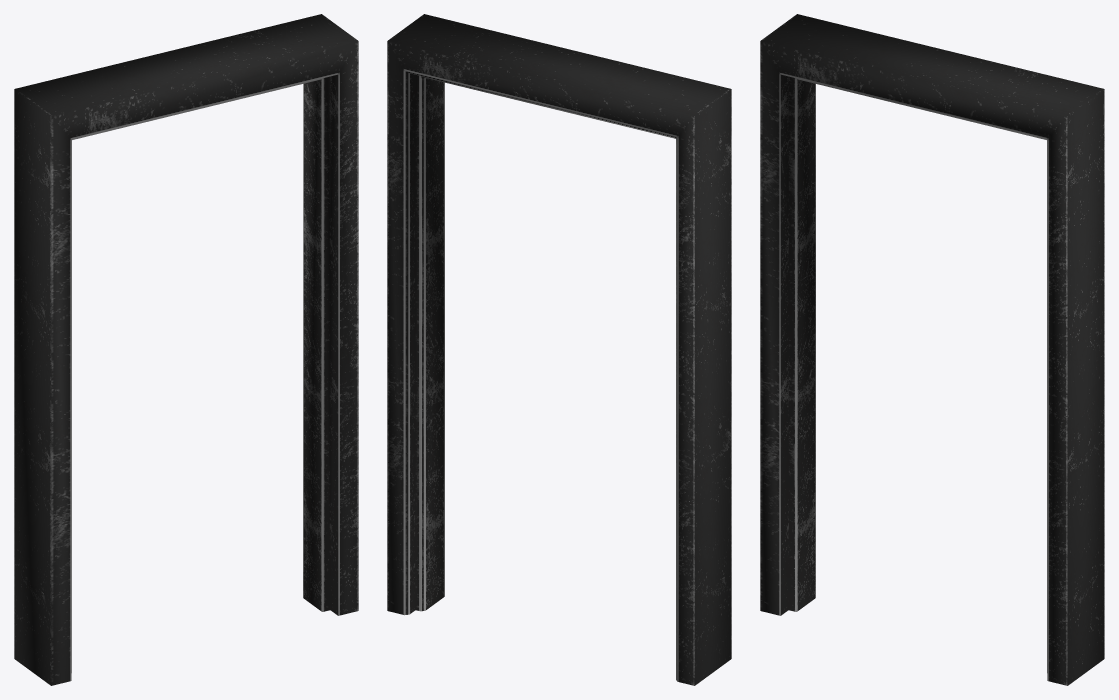
File: DoorFrame.fbx
3 renders of one model, left to right at view 1: azimuth 30°, elevation 25°; view 2: azimuth 150°, elevation 25°; view 3: azimuth 330°, elevation 25°, orthographic.
Visible parts, largest first — view 1: Door.001; view 2: Door.001; view 3: Door.001.
Boxes of the visible parts, x1,y1,x2,y2 form: Door.001: (14,14,358,685); Door.001: (387,14,731,685); Door.001: (760,14,1104,685).
Bounding box in the file's own units: 960 × 1700 × 200.
